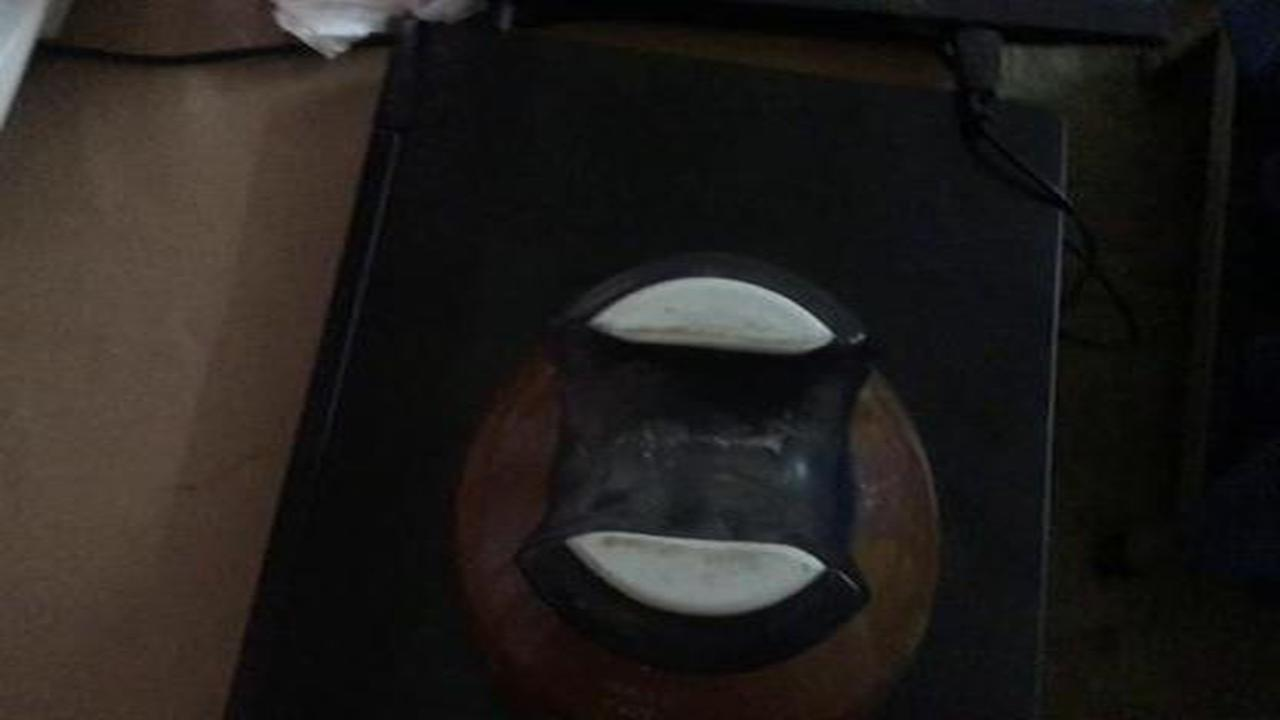insulator_pin: (410, 248, 973, 701)
